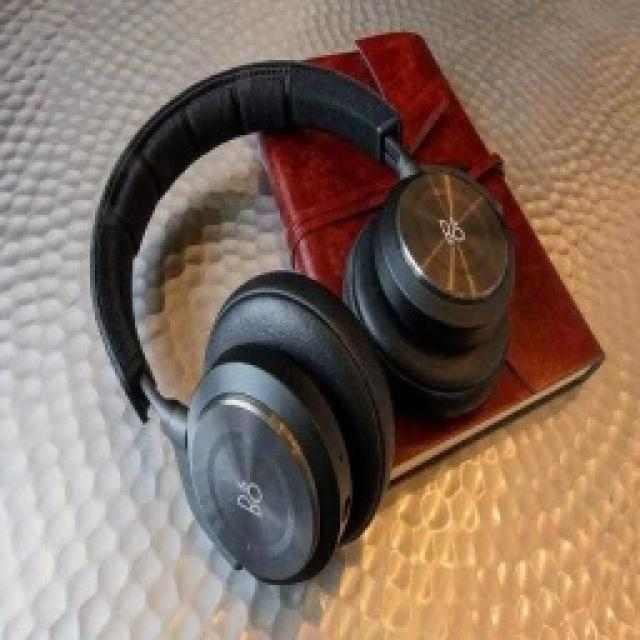headphones: (88, 45, 518, 585)
